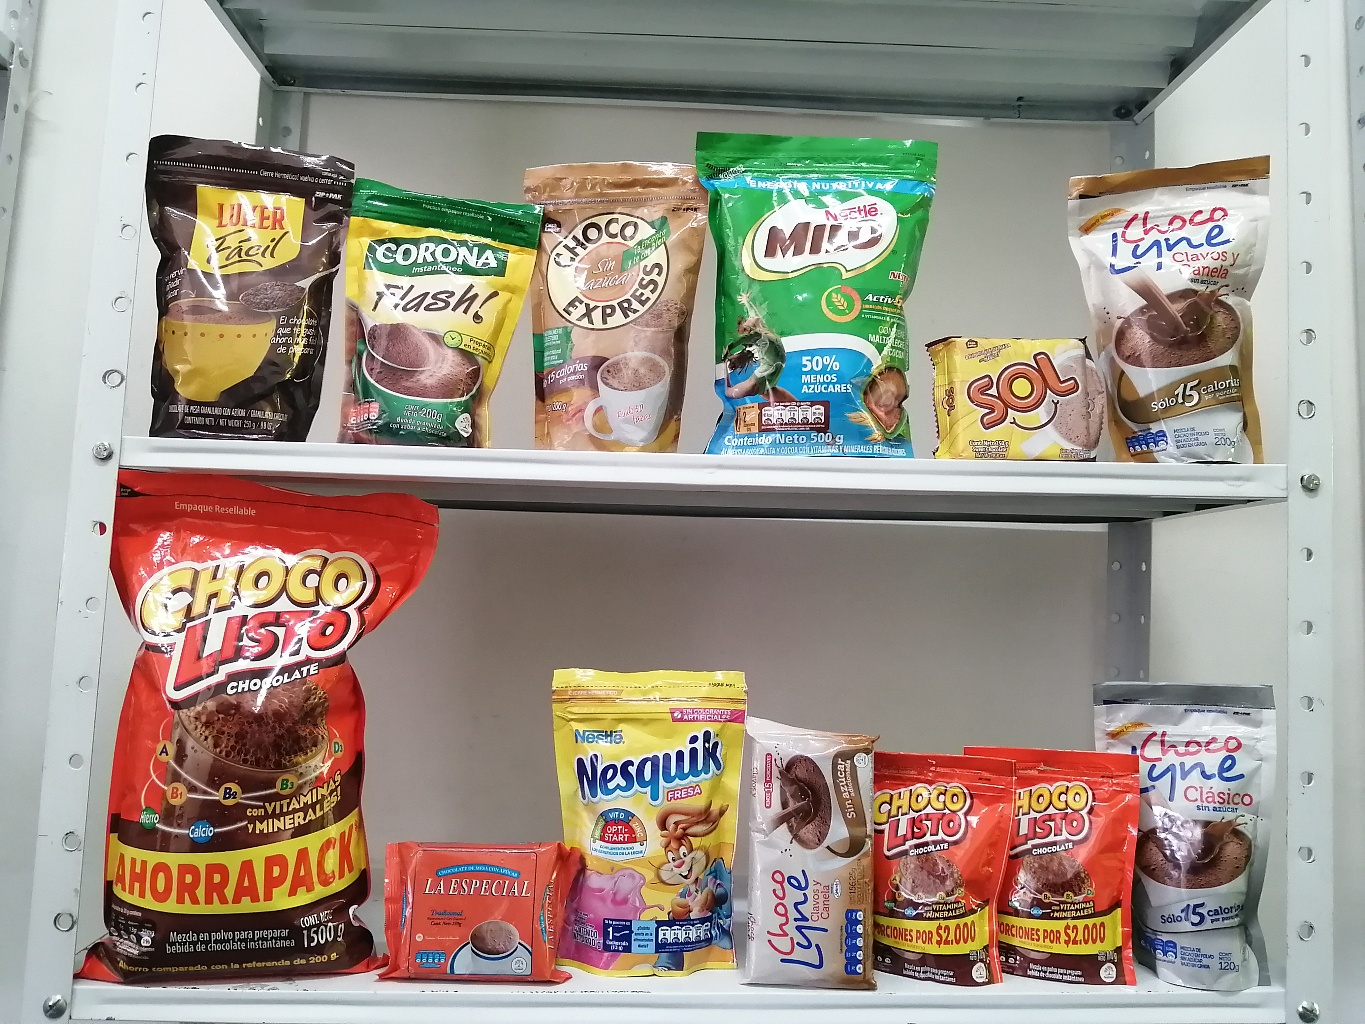COL0170103DYP1,500: (57, 441, 454, 997)
COL0170205DYP50000: (672, 103, 966, 469)
COL0170305DYP20000: (529, 639, 780, 990)
